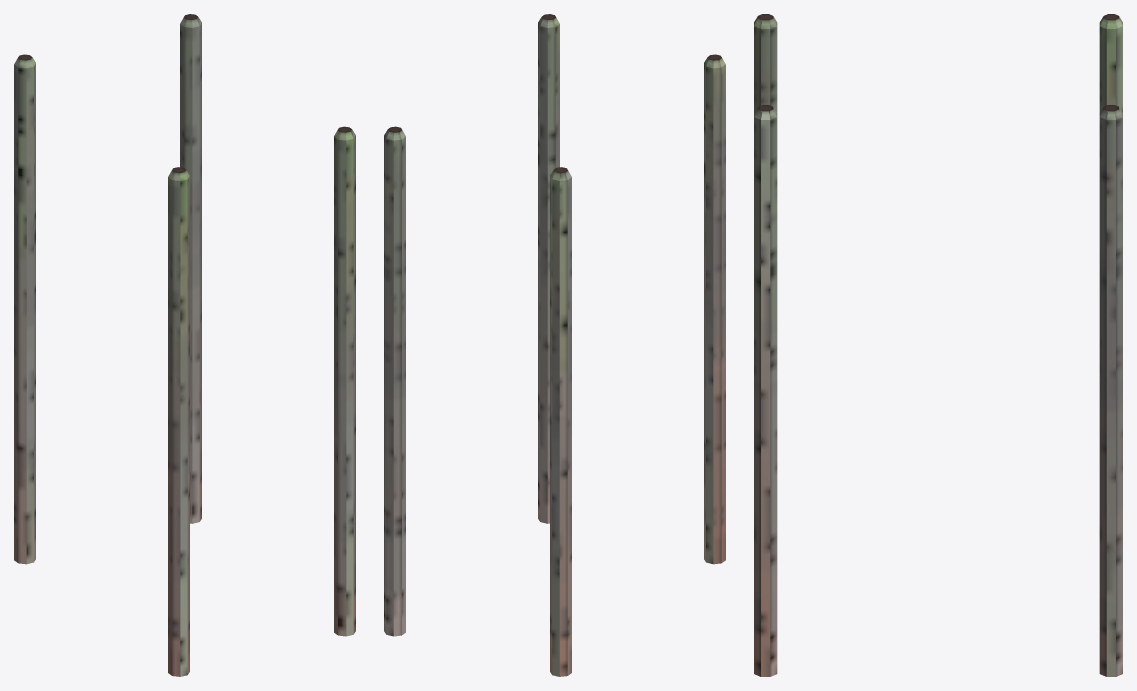
Rendered from Shelfs.obj.
The picture shows the model from 3 angles, left to right: view 1: azimuth 30°, elevation 25°; view 2: azimuth 150°, elevation 25°; view 3: azimuth 270°, elevation 25°; orthographic projection. The views are drawn at different scales.
Parts seen in each view (by area): view 1: cylinder; view 2: cylinder; view 3: cylinder.
Part boxes in pixels (box(x1,y1,x2,y2)): cylinder: box(14, 14, 355, 676); cylinder: box(384, 14, 725, 676); cylinder: box(754, 14, 1122, 676).
Size of the model in its own units: 1.94 by 5.06 by 3.
Materials: 1 (1 with a texture image).
